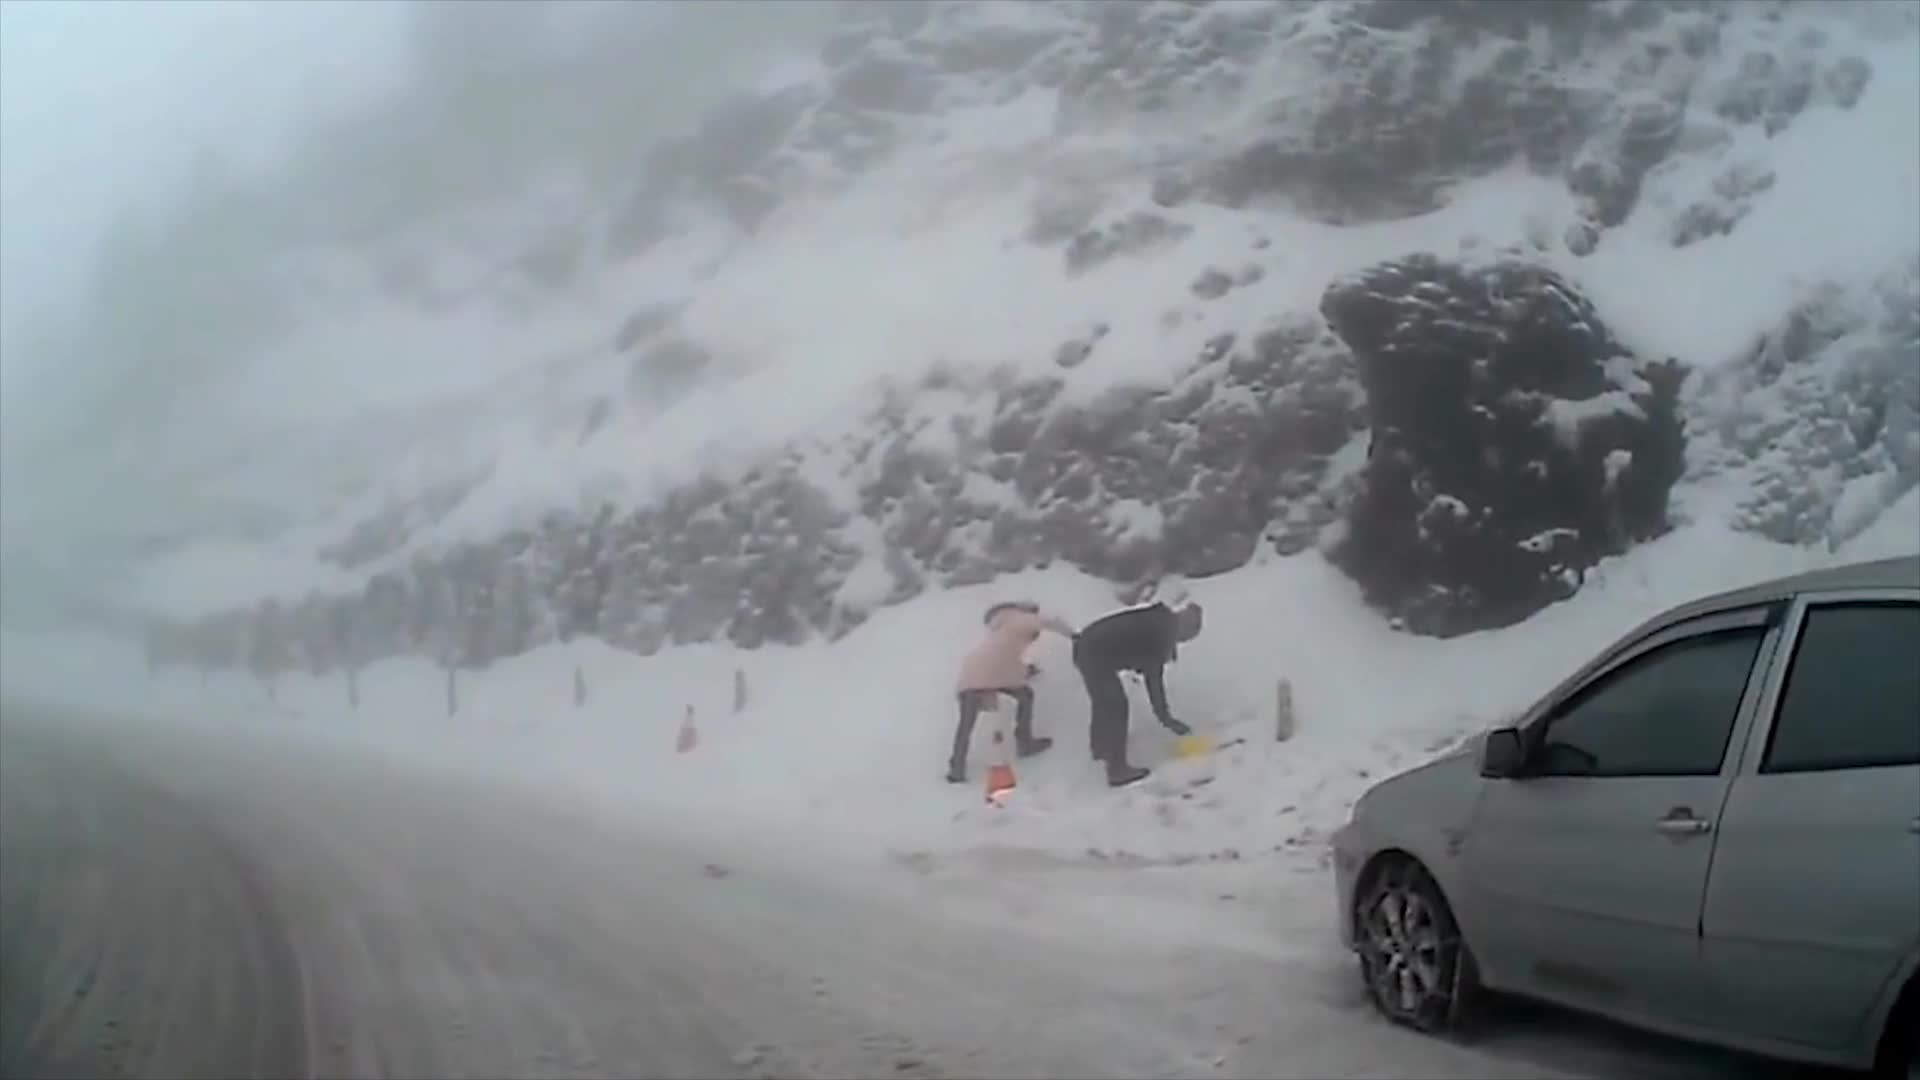pedestrian: (942, 591, 1075, 783), (1070, 604, 1202, 789)
vehicle: (1328, 553, 1920, 1080)
